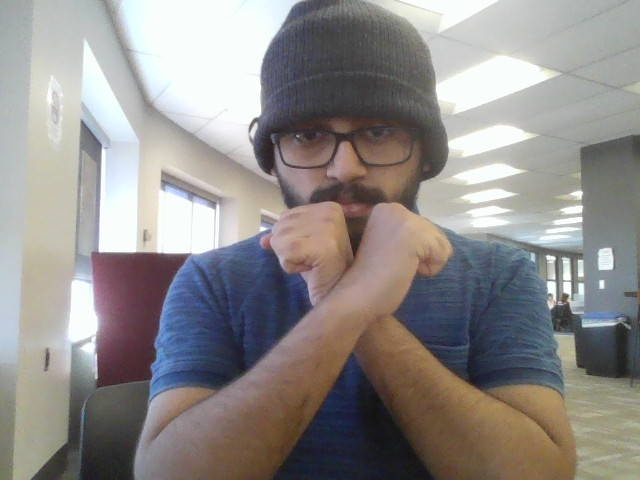cancel: (251, 198, 470, 397)
